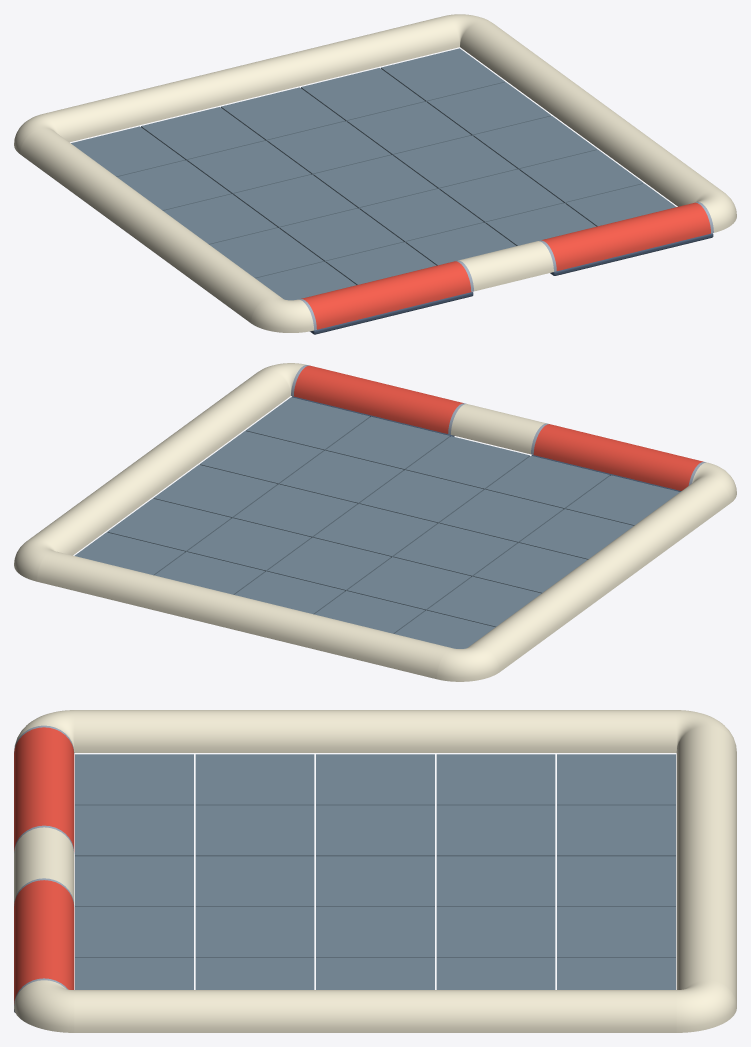
File: AFJ_Simple_Board_5x5.fbx
The picture shows the model from 3 angles, top to bottom: view 1: azimuth 30°, elevation 25°; view 2: azimuth 150°, elevation 25°; view 3: azimuth 270°, elevation 25°; orthographic projection. The views are drawn at different scales.
Parts seen in each view (by area): view 1: Tile_1_2, Tile_1_3, Tile_3_1, Tile_3_2, Tile_3_4, Tile_4_3, Tile_1_1, Tile_1_4, Tile_2_2, Tile_2_3, Tile_3_3, Tile_2_4 (+38 smaller); view 2: Tile_2_0, Tile_2_1, Tile_3_0, Tile_3_2, Tile_4_1, Tile_4_3, Tile_1_2, Tile_2_2, Tile_1_0, Tile_1_3, Tile_2_3, Tile_3_3 (+36 smaller); view 3: Tile_0_1, Tile_0_3, Tile_1_1, Tile_1_3, Tile_0_0, Tile_0_2, Tile_0_4, Tile_1_0, Tile_1_2, Tile_1_4, Tile_2_1, Tile_2_3 (+37 smaller).
Part boxes in pixels (x1,y1,x2,y2): Tile_1_2: (233,174,357,228); Tile_1_3: (187,140,311,194); Tile_3_1: (439,169,563,222); Tile_3_2: (393,135,517,189); Tile_3_4: (301,68,425,121); Tile_4_3: (427,82,551,135); Tile_1_1: (279,208,403,261); Tile_1_4: (141,107,265,160); Tile_2_2: (313,155,437,208); Tile_2_3: (267,121,391,174); Tile_3_3: (347,101,471,155); Tile_2_4: (221,87,344,141); Tile_2_0: (405,436,529,489); Tile_2_1: (359,470,483,523); Tile_3_0: (325,416,449,470); Tile_3_2: (233,484,357,537); Tile_4_1: (199,431,323,484); Tile_4_3: (107,498,231,552); Tile_1_2: (393,523,517,576); Tile_2_2: (313,504,437,557); Tile_1_0: (485,455,609,509); Tile_1_3: (347,557,471,610); Tile_2_3: (267,537,391,591); Tile_3_3: (187,518,311,571); Tile_0_1: (195,754,314,805); Tile_0_3: (436,754,555,805); Tile_1_1: (195,805,314,856); Tile_1_3: (436,805,555,856); Tile_0_0: (75,754,193,805); Tile_0_2: (316,754,434,805); Tile_0_4: (557,754,675,805); Tile_1_0: (75,805,193,856); Tile_1_2: (316,805,434,856); Tile_1_4: (557,805,675,856); Tile_2_1: (195,856,314,906); Tile_2_3: (436,856,555,906).
Size of the model in its own units: 600 by 44 by 600.
